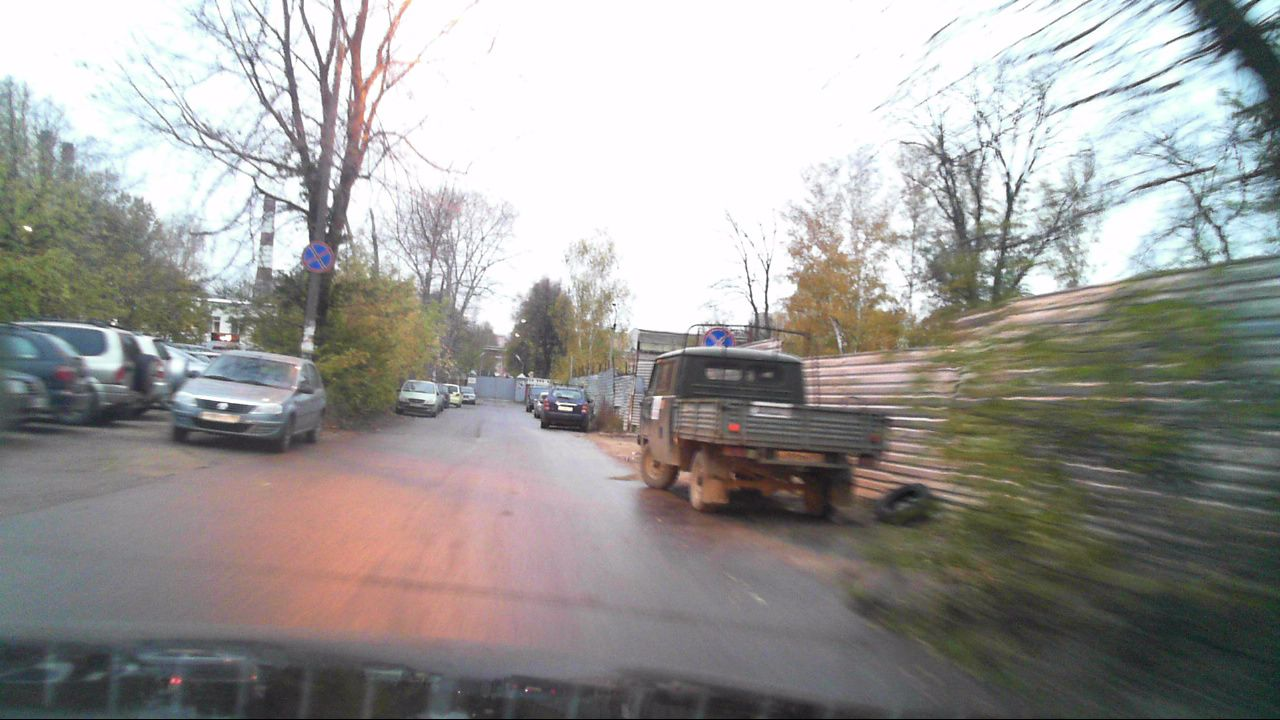No Parking: (702, 328, 734, 358)
